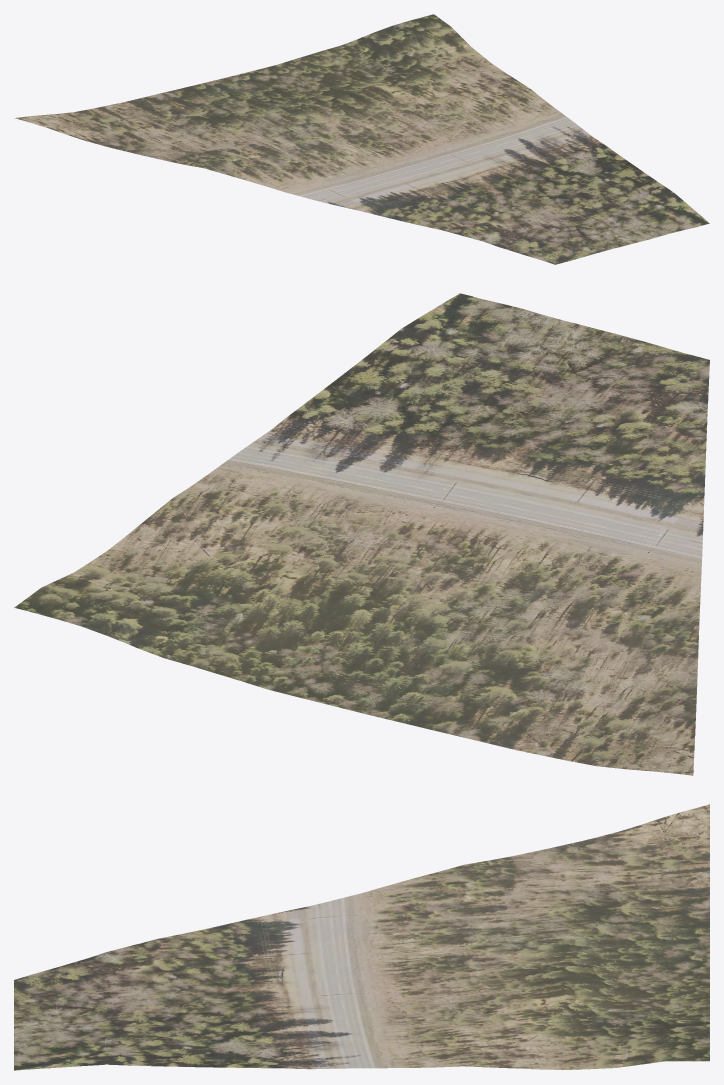
File: CM_Terrain_24491892_6814060.fbx
The picture shows the model from 3 angles, top to bottom: view 1: azimuth 30°, elevation 25°; view 2: azimuth 150°, elevation 25°; view 3: azimuth 270°, elevation 25°; orthographic projection. The views are drawn at different scales.
Parts seen in each view (by area): view 1: CM_Terrain_24491892_6814060_LOD0; view 2: CM_Terrain_24491892_6814060_LOD0; view 3: CM_Terrain_24491892_6814060_LOD0.
Part boxes in pixels (<box>): CM_Terrain_24491892_6814060_LOD0: <box>14,14,709,264</box>; CM_Terrain_24491892_6814060_LOD0: <box>14,293,709,775</box>; CM_Terrain_24491892_6814060_LOD0: <box>14,804,709,1070</box>.
Size of what is drawn, in the model's own units: 180 by 5.23 by 205.
